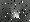person: (9, 8, 19, 18)
